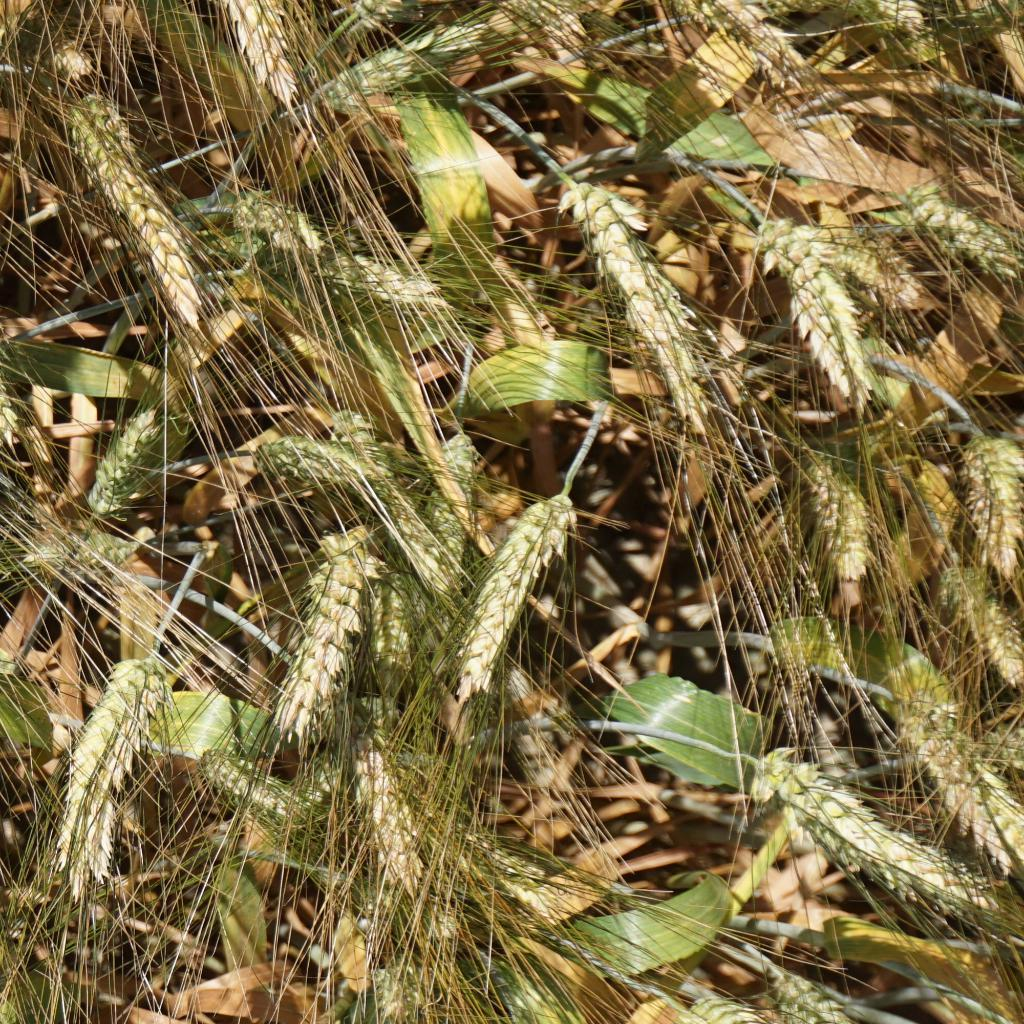0-0: (555, 171, 719, 442), (57, 103, 207, 340), (42, 647, 177, 906), (741, 746, 956, 903), (286, 535, 371, 741), (468, 485, 570, 649), (912, 706, 1020, 852), (764, 213, 860, 375), (316, 248, 469, 345), (317, 38, 457, 119), (355, 745, 428, 884), (91, 387, 170, 515), (243, 423, 380, 496), (902, 182, 1010, 273), (946, 558, 1022, 686), (686, 4, 819, 76), (800, 455, 872, 575), (823, 225, 927, 305), (965, 428, 1024, 560), (464, 830, 555, 913), (17, 521, 148, 578), (227, 0, 297, 101), (427, 429, 478, 555), (365, 942, 442, 1024), (223, 198, 321, 259), (913, 716, 1016, 773), (363, 562, 415, 674), (201, 748, 287, 814), (0, 290, 36, 446), (773, 973, 876, 1024), (859, 0, 943, 61), (284, 751, 347, 828), (682, 994, 834, 1024), (52, 44, 109, 85)
